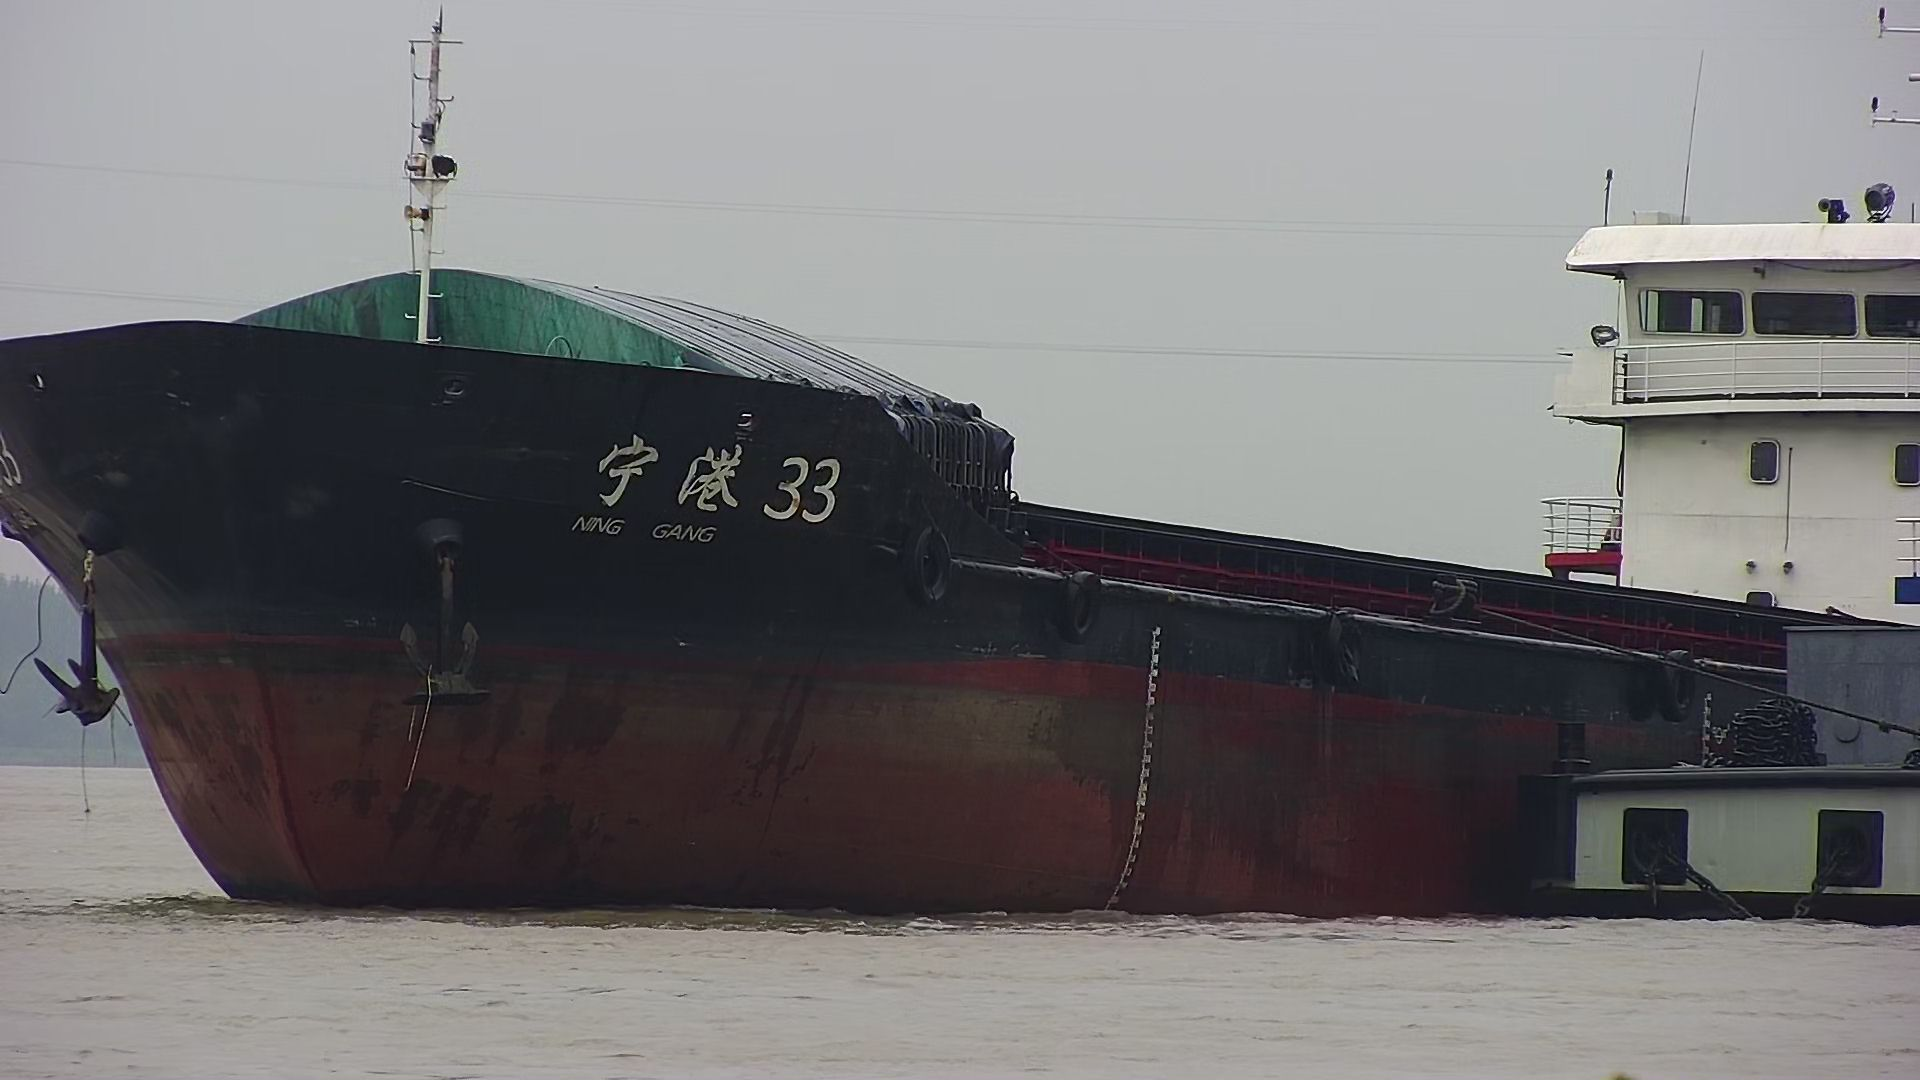ship: (1, 1, 1920, 942)
